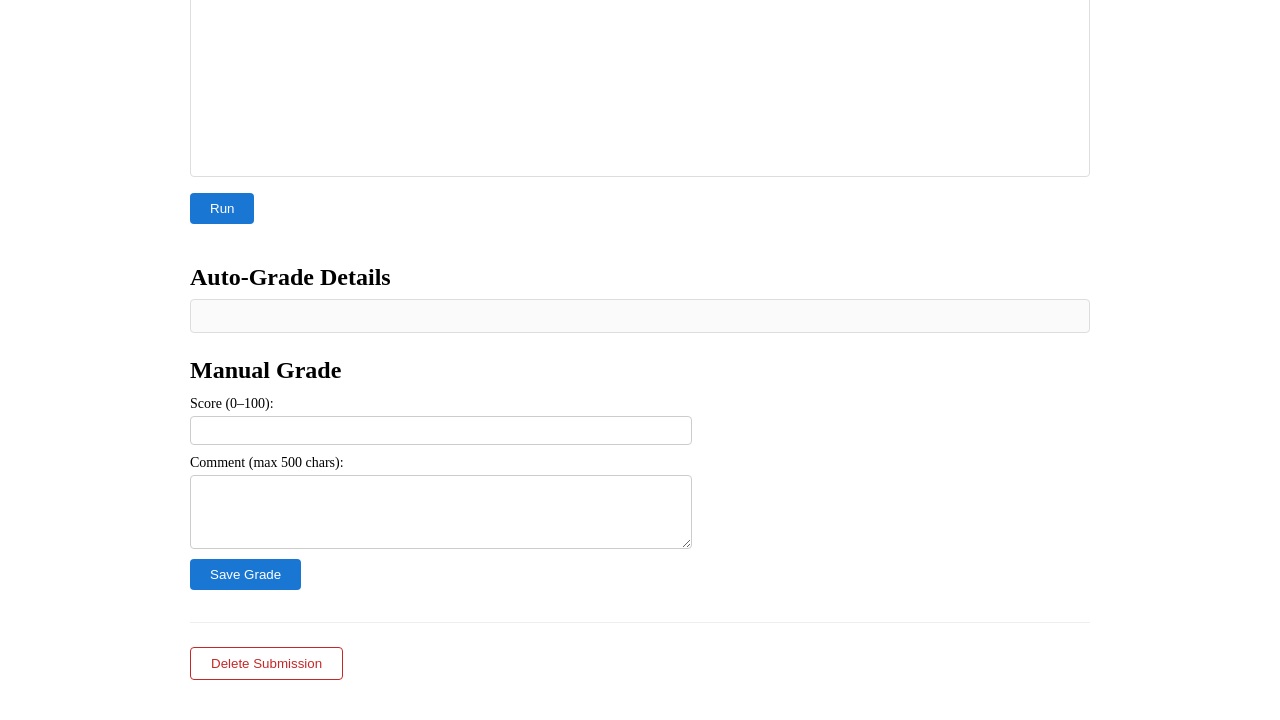
Test: stays on the page and shows an error when save fails
The image size is (1280, 720).
(page scrolled)
Type "90" into the number field labelled "Score (0–100):" at (441, 430), box [190,416,692,445]
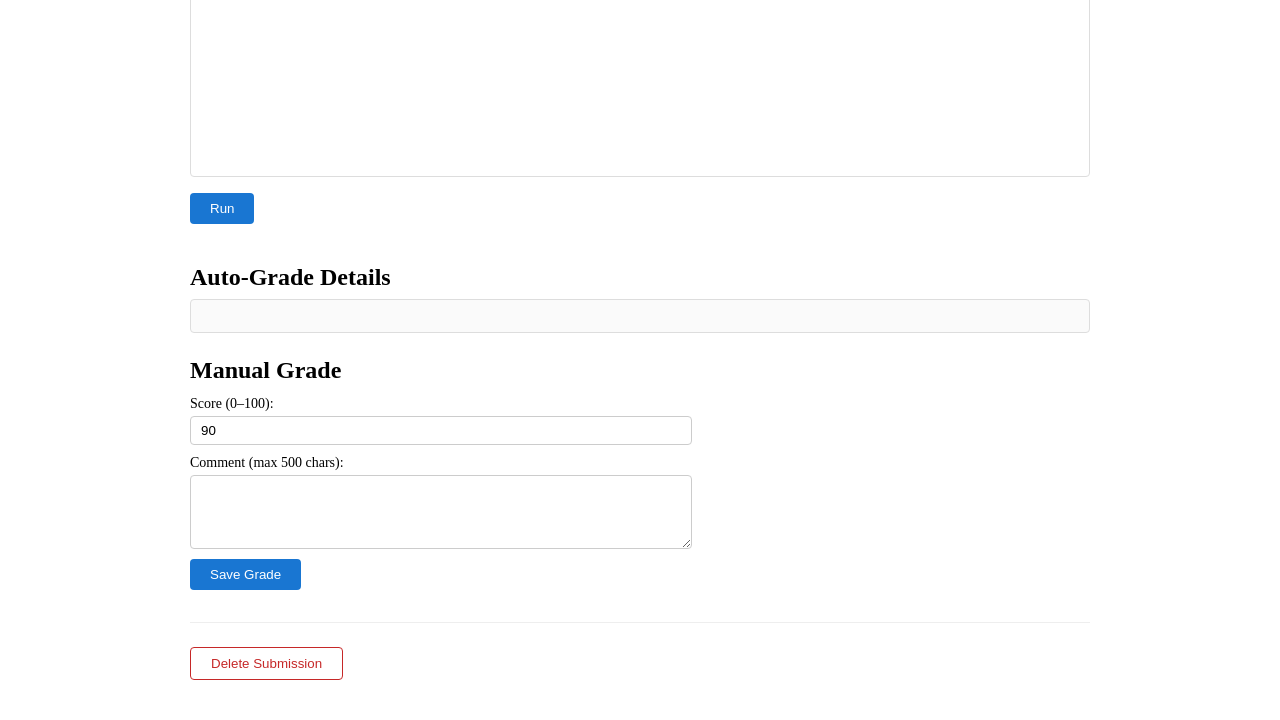
Click the button "Save Grade" at (246, 574), box [190,559,301,590]
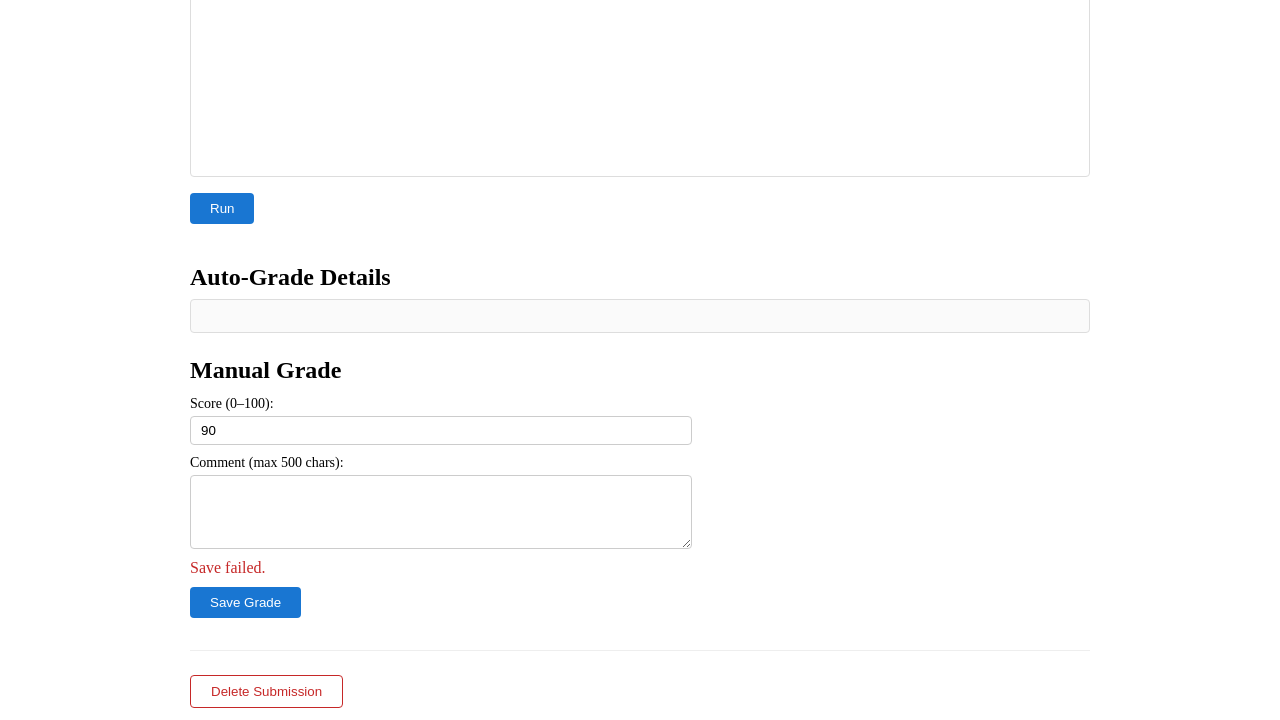
expect the text "Save failed." is shown: met, box [190,559,266,576]
